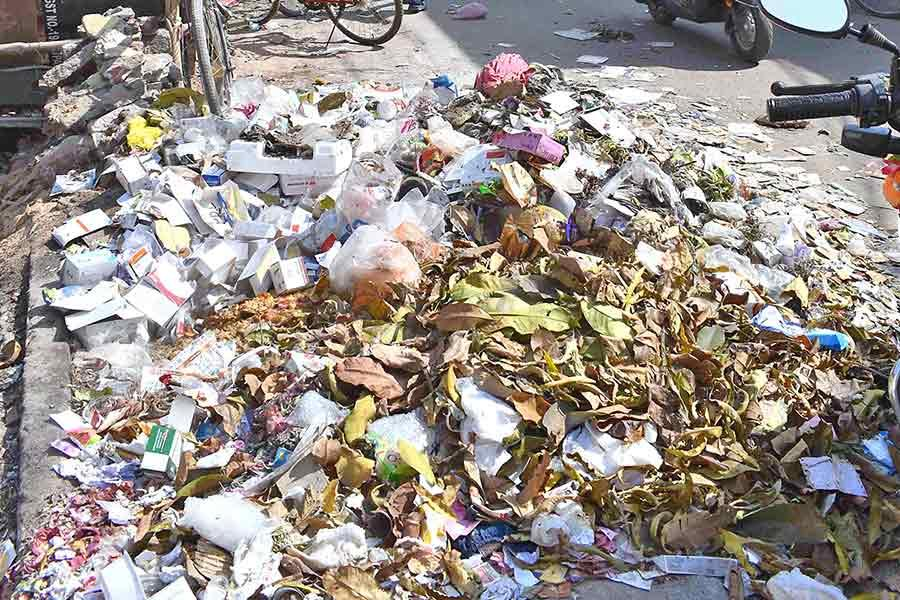trash: (87, 109, 893, 592)
